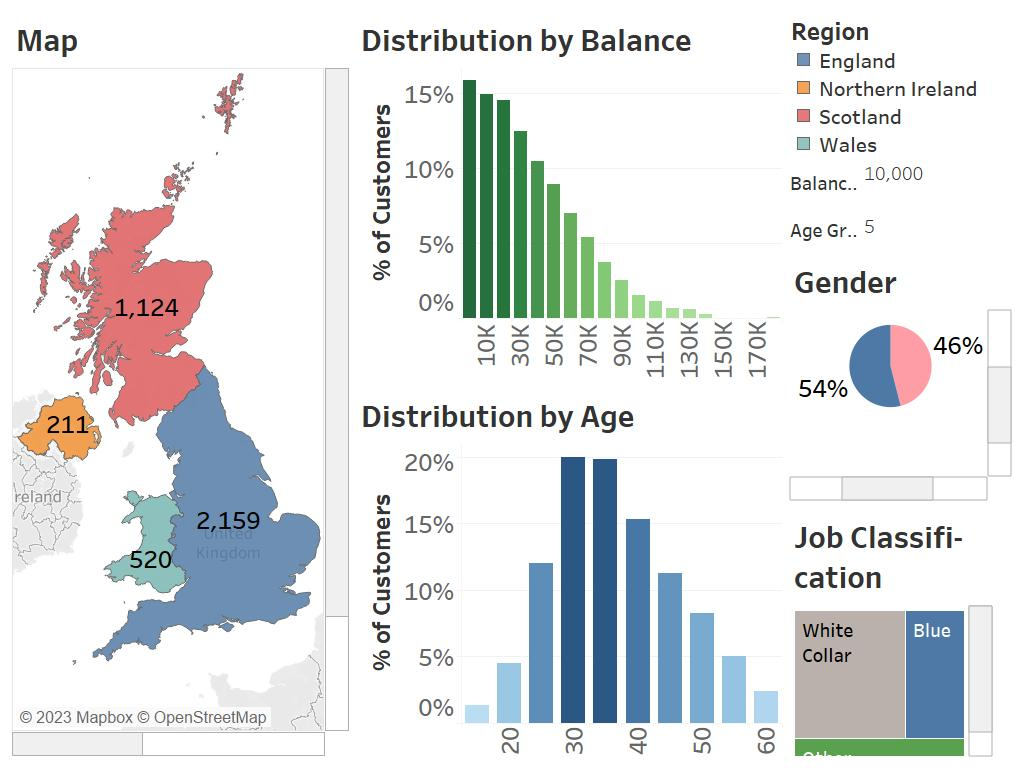

What the dashboard file says about the page in this screenshot:
{"tool":"tableau","page":{"name":"Segmentation Dashboard","canvas":[1024,768],"ordinal":0},"visuals":[{"type":"worksheet","title":"Map","mark":"Multipolygon","box":[8,8,345,752]},{"type":"worksheet","title":"Distribution by Balance","mark":"Automatic","rows":["P1-UK-Bank-Customers.csv_34C4DD72DC804E0AA41A828C734FE2FB"],"cols":["Balance (bin)"],"box":[353,8,433,376]},{"type":"legend","title":"Map","param":"[federated.08g8i4t0k9w0at16pee2b19muc2z].[none:Region:nk]","box":[786,8,230,148]},{"type":"parameter","param":"[Parameters].[Parameter 1]","box":[786,156,230,53]},{"type":"parameter","param":"[Parameters].[Parameter 2]","box":[786,209,230,41]},{"type":"worksheet","title":"Gender","mark":"Pie","box":[786,250,230,255]},{"type":"worksheet","title":"Distribution by Age","mark":"Bar","rows":["P1-UK-Bank-Customers.csv_34C4DD72DC804E0AA41A828C734FE2FB"],"cols":["Age (bin)"],"box":[353,384,433,376]},{"type":"worksheet","title":"Job Classification","mark":"Automatic","box":[786,505,230,255]}]}

Visuals, with their boxes in screenshot pixels (x1, y1, x2, y2), scaled from the page's 1024x768 canvas onto the 1024x768 screenshot:
"Map" worksheet (Multipolygon marks): crop(8, 8, 353, 760)
"Distribution by Balance" worksheet: crop(353, 8, 786, 384)
"Map" legend: crop(786, 8, 1016, 156)
parameter: crop(786, 156, 1016, 209)
parameter: crop(786, 209, 1016, 250)
"Gender" worksheet (Pie marks): crop(786, 250, 1016, 505)
"Distribution by Age" worksheet (Bar marks): crop(353, 384, 786, 760)
"Job Classification" worksheet: crop(786, 505, 1016, 760)
